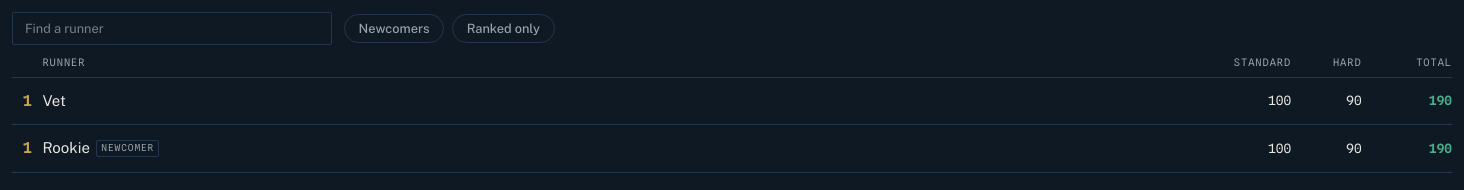
Test case: EventLadder filters › the Newcomers chip keeps only newcomer rows
Click the button "Newcomers" at (394, 28), box [344,14,444,43]
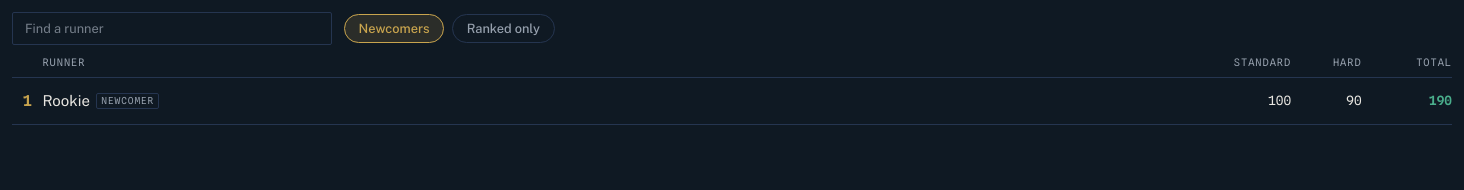
Expected: the text "Rookie" is shown, [42,90,90,112]
Expected: the link "Vet" is gone
